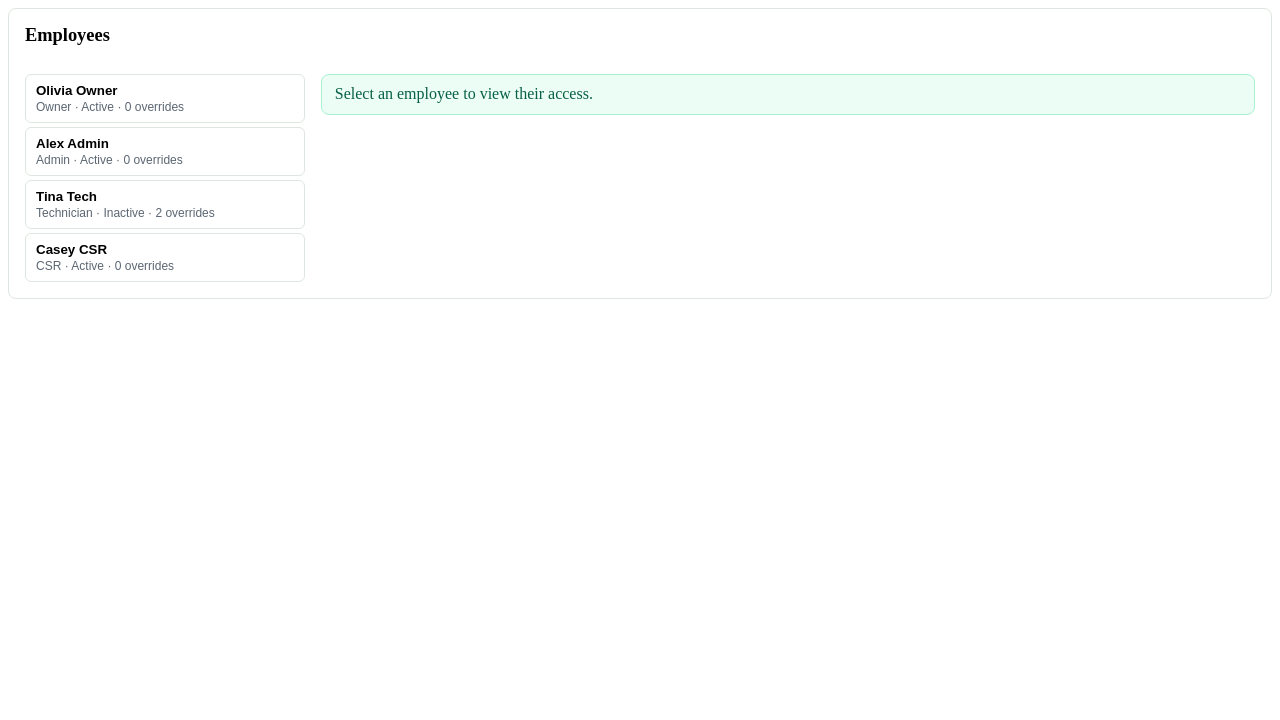
Test: OfficeEmployeeAccessSurface — protections › disables self-deactivation (active toggle) on your own account
The image size is (1280, 720).
Click the text "Alex Admin".
click(72, 144)  # box [36, 136, 109, 151]
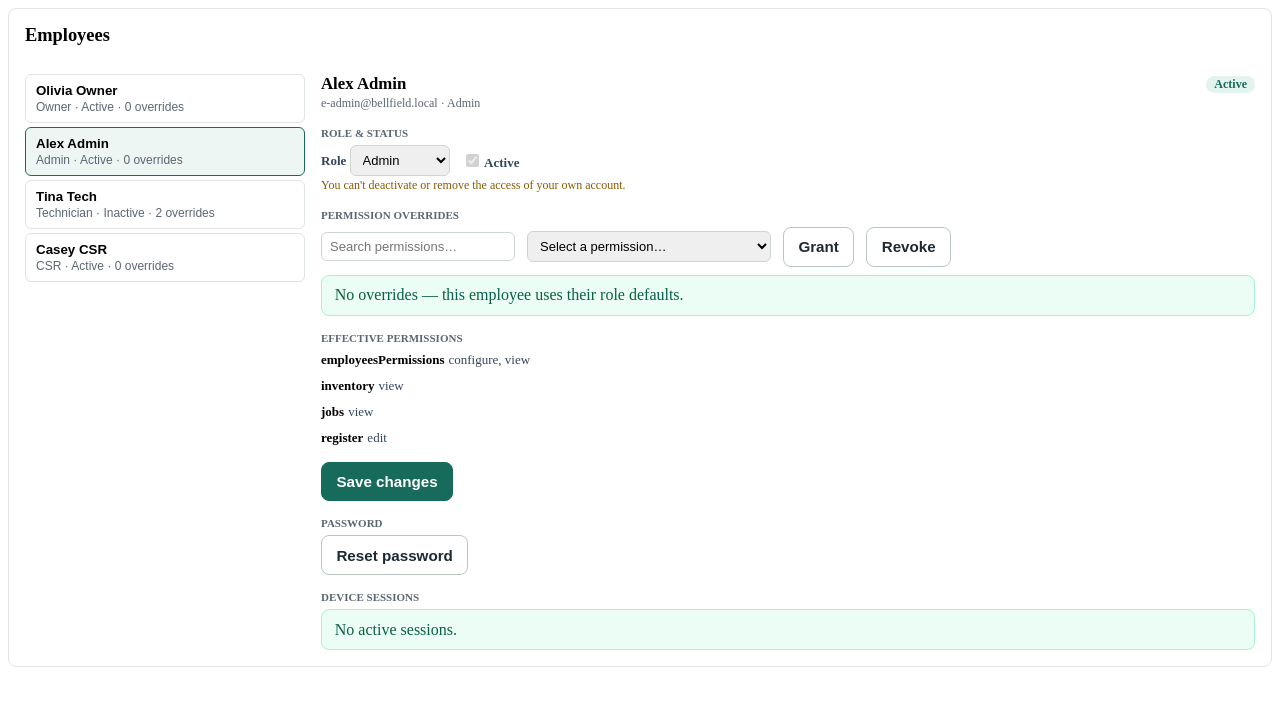
Expected: the checkbox labelled "Active" is disabled, [466, 154, 478, 166]
Expected: the text "can't deactivate or remove the access of your own account" is shown, [321, 178, 626, 192]
